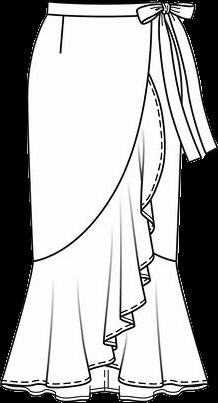Hemline: (0, 77, 165, 391), (9, 366, 208, 389)
Waistline: (33, 11, 165, 265), (47, 0, 163, 6)
